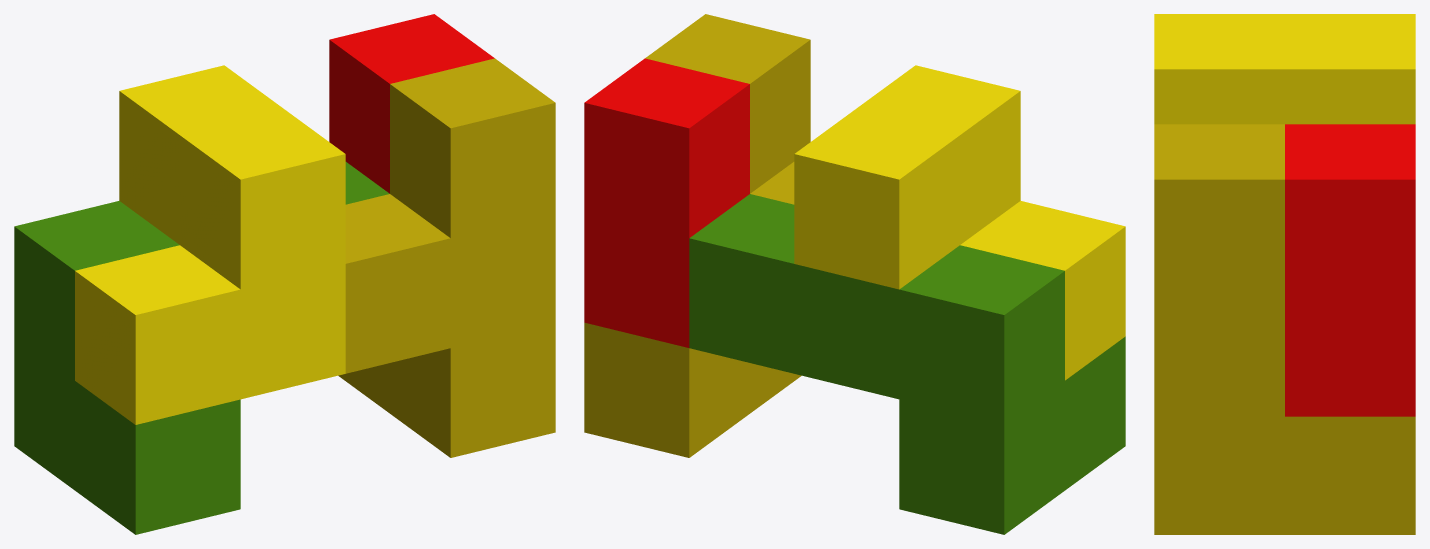
3 renders of one model, left to right at view 1: azimuth 30°, elevation 25°; view 2: azimuth 150°, elevation 25°; view 3: azimuth 270°, elevation 25°, orthographic. The views are drawn at different scales.
Visible parts, largest first — view 1: mergedBlocks(Clone); view 2: mergedBlocks(Clone); view 3: mergedBlocks(Clone).
Part boxes in pixels (x1,y1,x2,y2): mergedBlocks(Clone): (14,14,555,534); mergedBlocks(Clone): (584,14,1125,534); mergedBlocks(Clone): (1154,14,1415,534).
Size of the model in its own units: 4 by 3 by 2.
4 materials, 4 textured.
